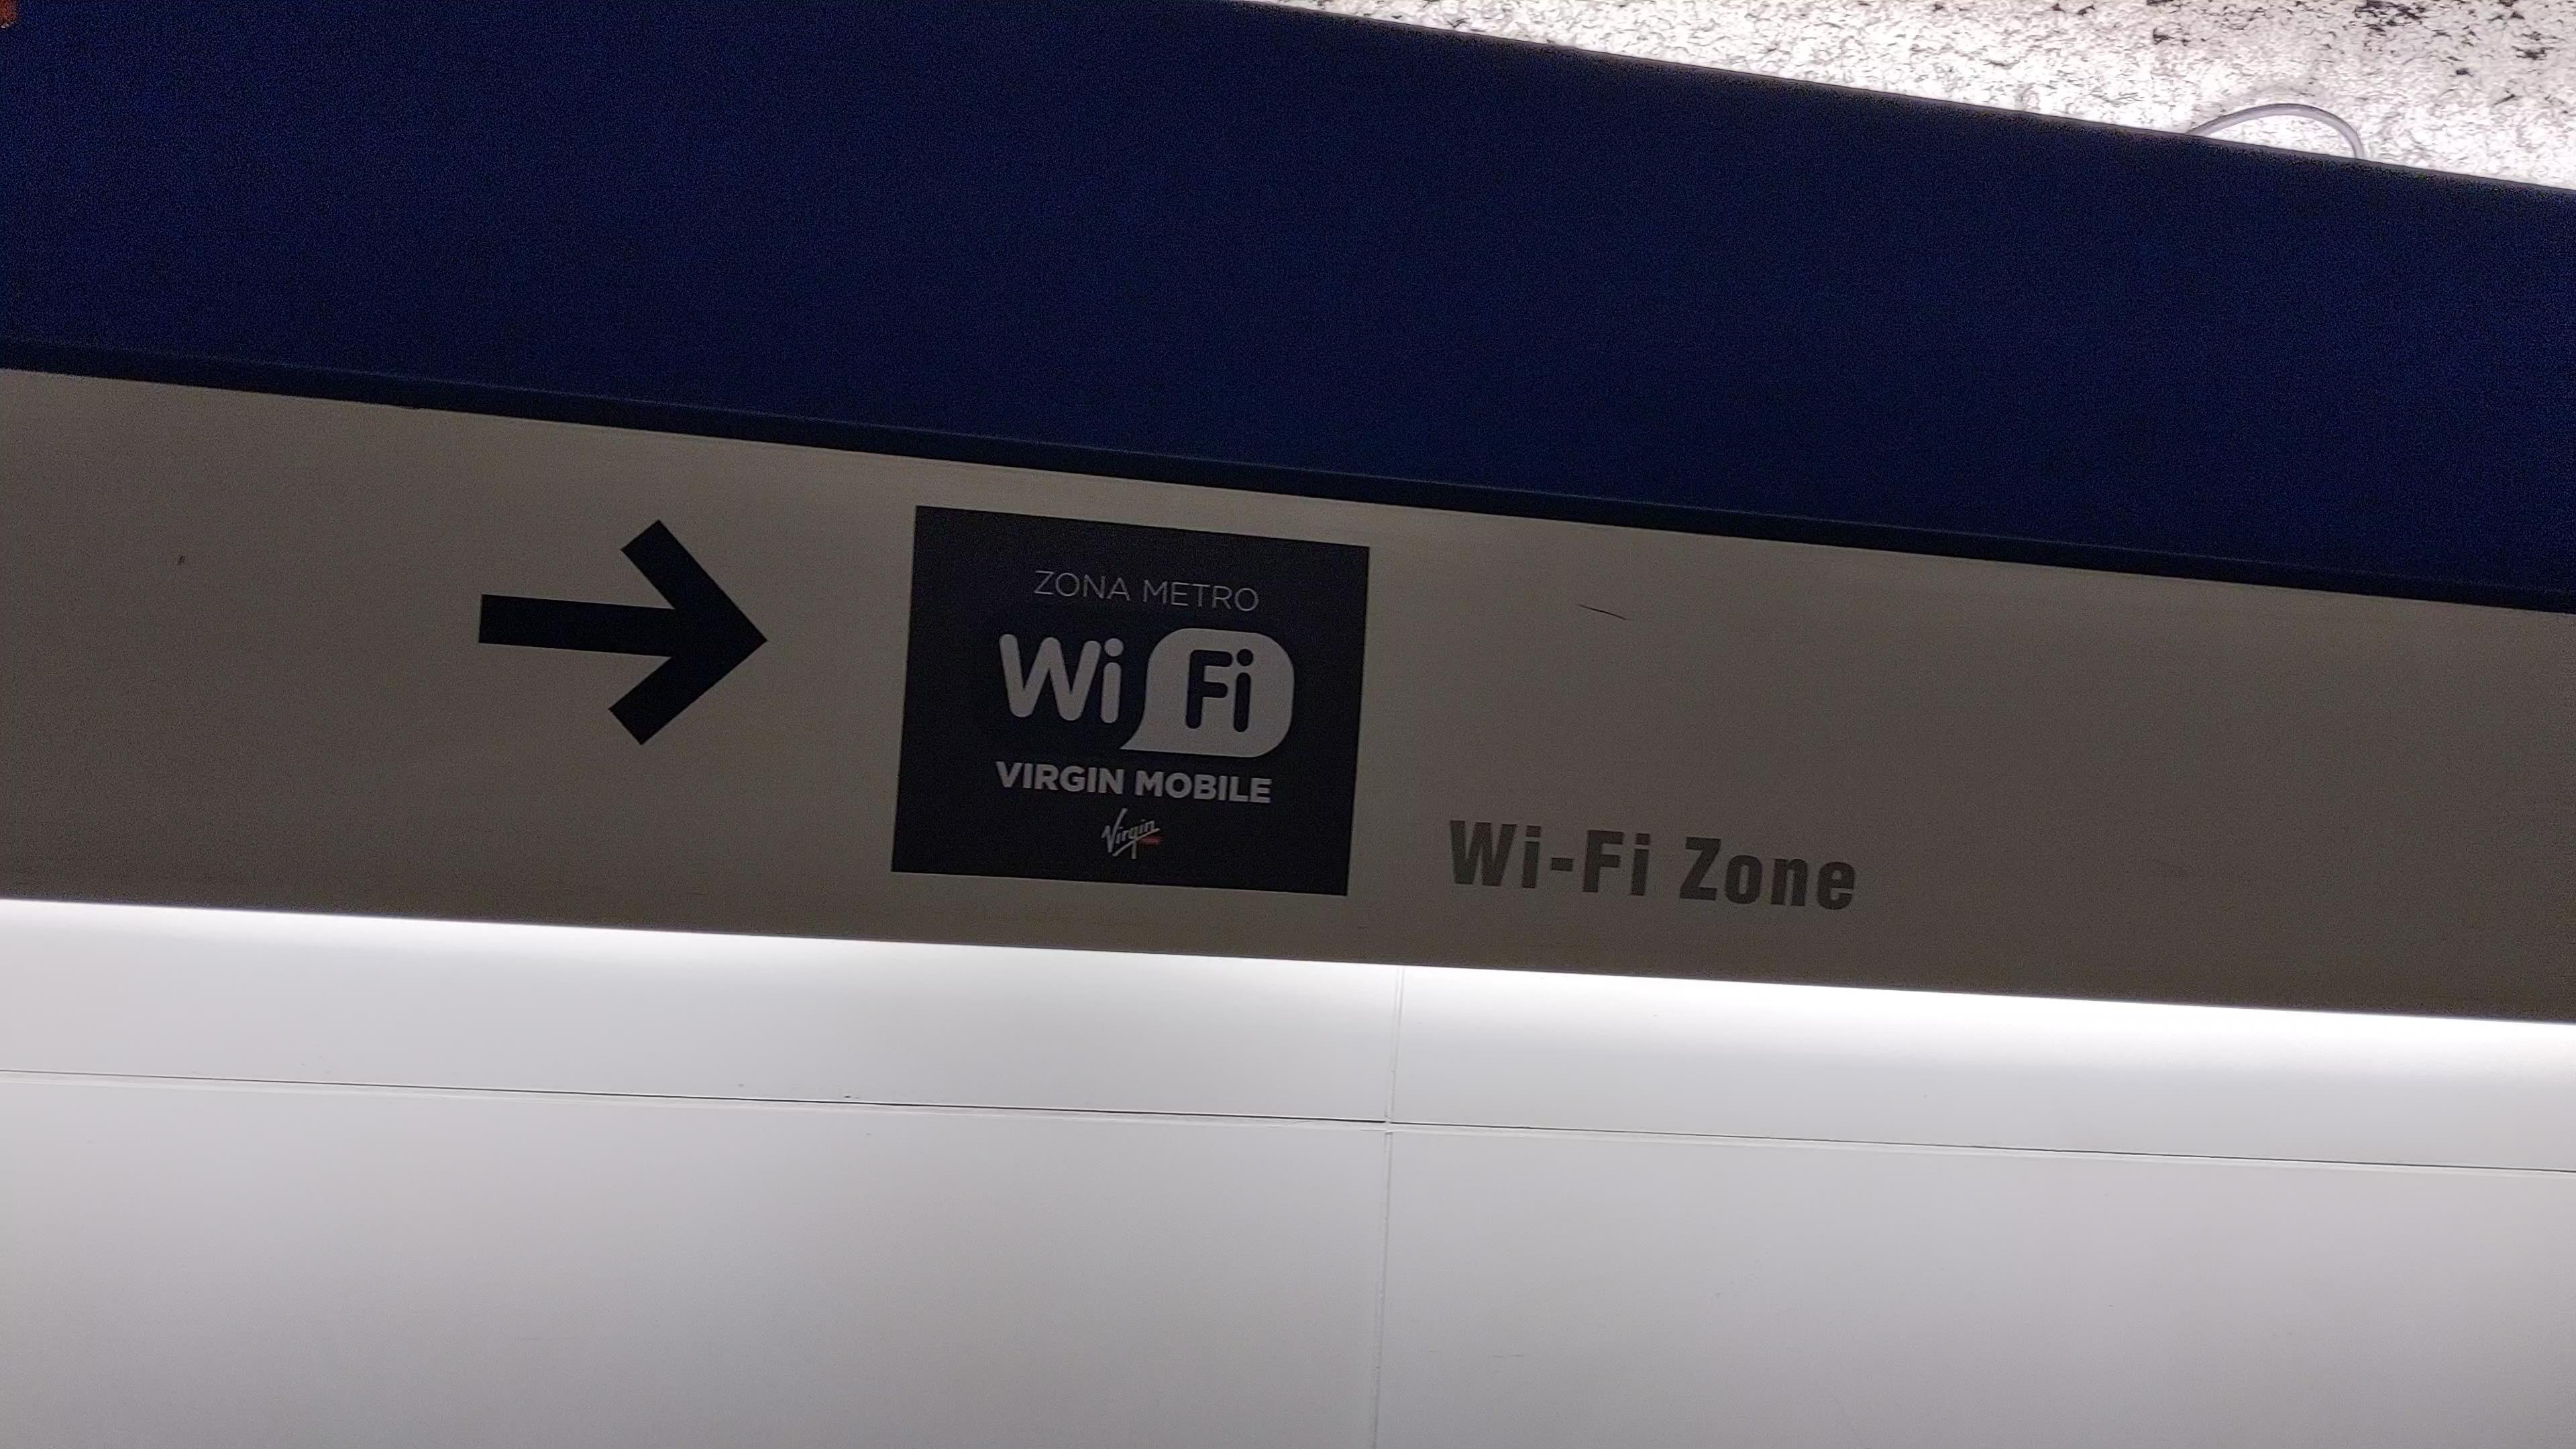right arrow: (465, 506, 771, 755)
